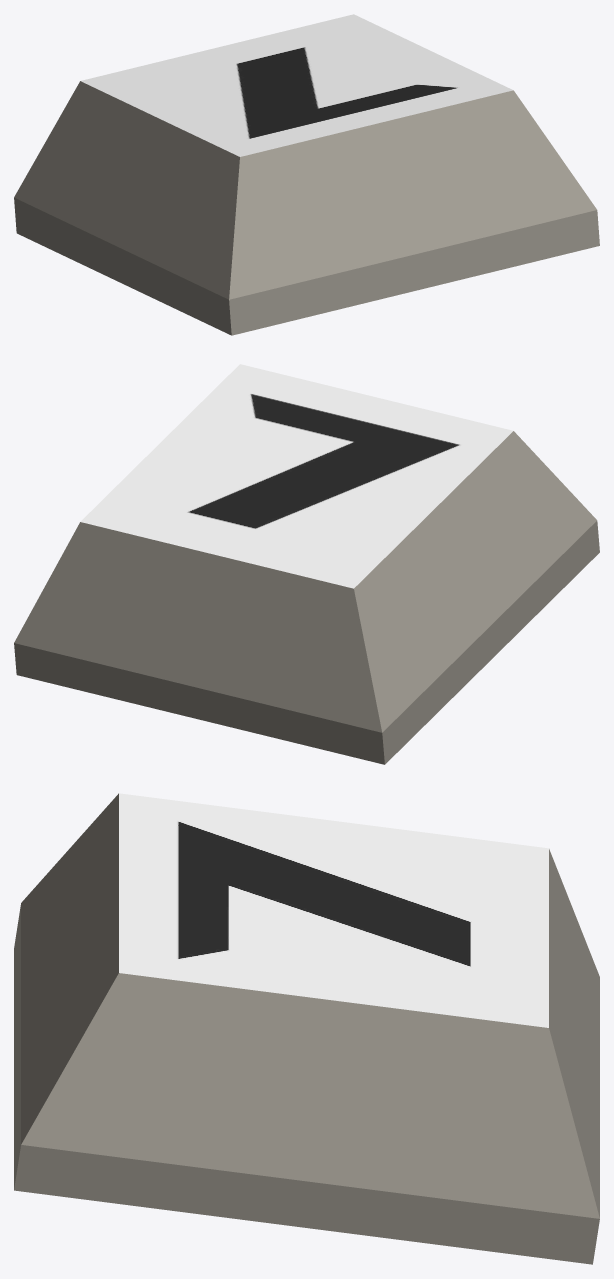
Rendered from key7.glb.
The picture shows the model from 3 angles, top to bottom: view 1: azimuth 30°, elevation 25°; view 2: azimuth 150°, elevation 25°; view 3: azimuth 270°, elevation 25°; orthographic projection. The views are drawn at different scales.
Parts seen in each view (by area): view 1: Cube.011; view 2: Cube.011; view 3: Cube.011.
Boxes of the visible parts, left/top/right/bottom form: Cube.011: left=14, top=14, right=599, bottom=335; Cube.011: left=14, top=364, right=599, bottom=764; Cube.011: left=14, top=793, right=599, bottom=1264.
Bounding box in the file's own units: 0.1926 × 0.0968 × 0.1972.
2 materials, 1 textured.
